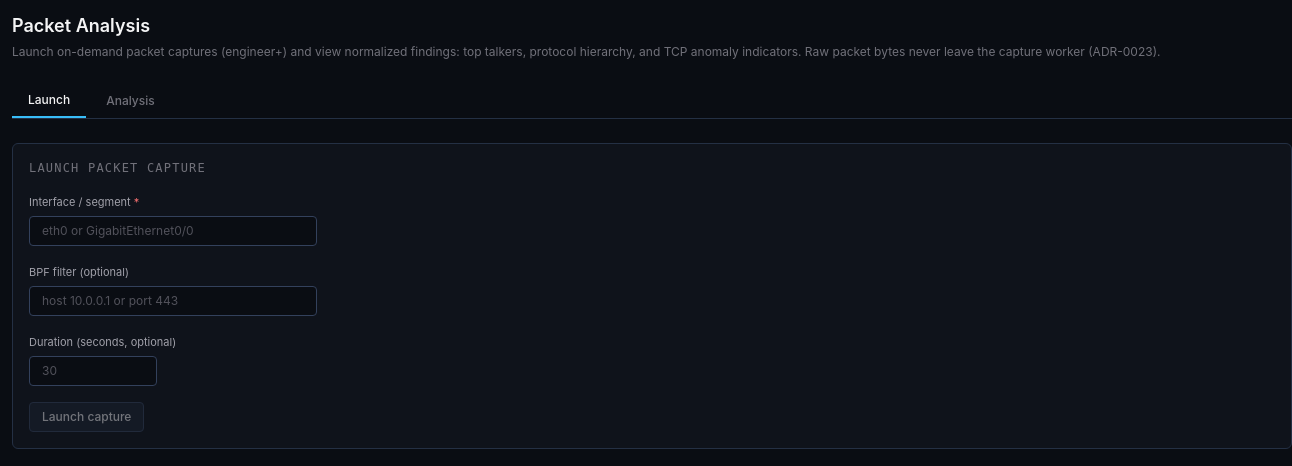
Test: PacketPage — capture launch › launch button is enabled when interface is filled
Type "eth0" into the field with test id "capture-interface" at (173, 231), box [29,216,317,246]
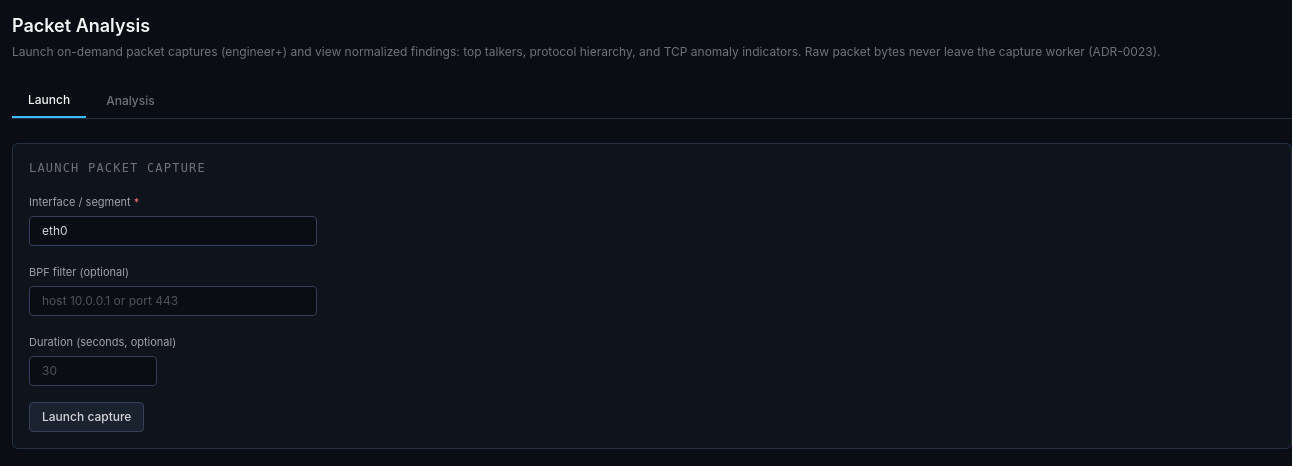
Expected: the button with test id "capture-launch-btn" is enabled, [29,402,144,432]
